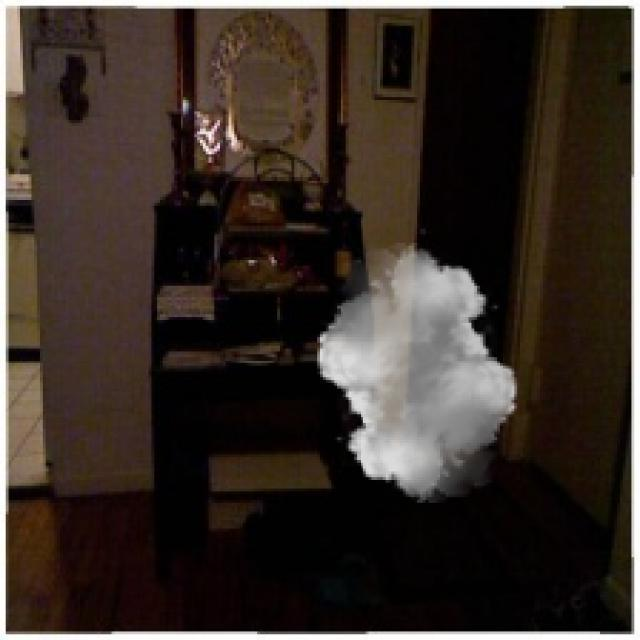Smoke: (308, 243, 526, 503)
